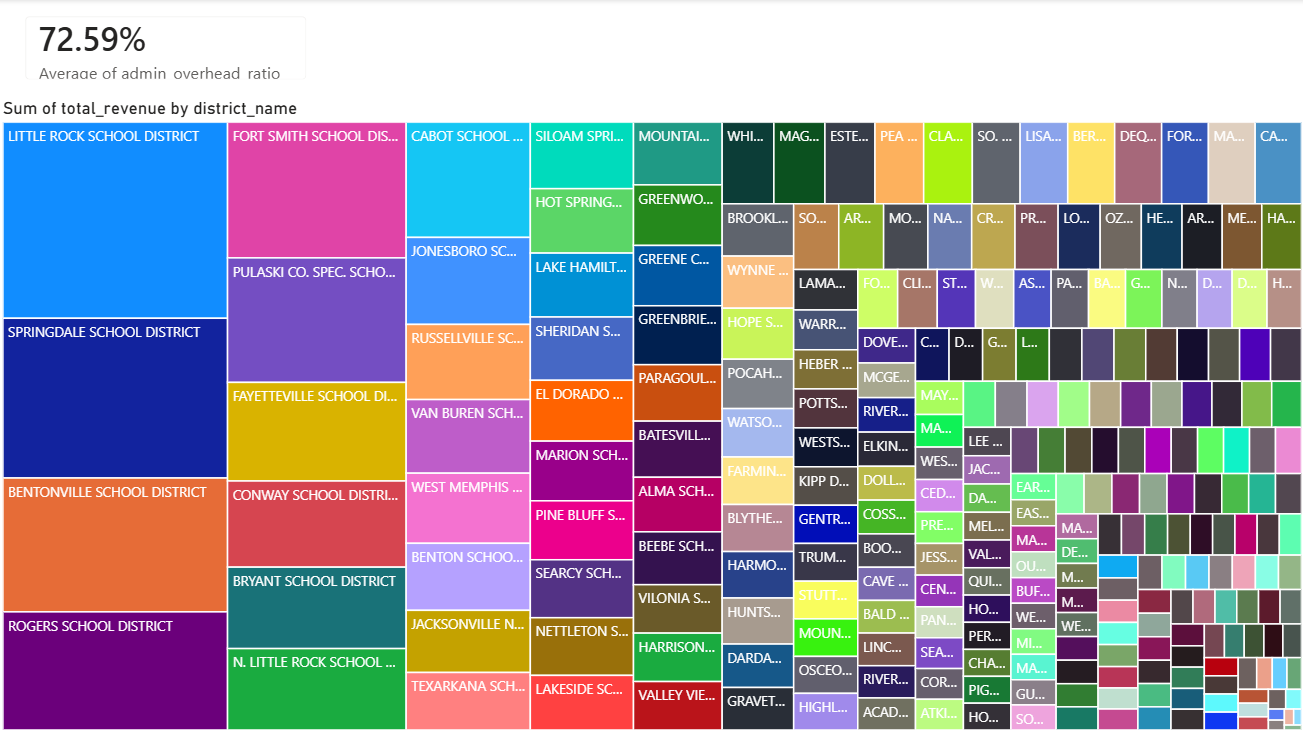

The page's visual inventory and layout, read from the dashboard file:
{"tool":"powerbi","page":{"name":"Page 2","canvas":[1280,720],"ordinal":1},"visuals":[{"type":"cardVisual","fields":{"Data":["Avg(arkansas_school_finance.admin_overhead_ratio)"]},"box":[9.8,0,309.4,96.6],"z":0},{"type":"treemap","fields":{"Group":["arkansas_school_finance.district_name"],"Values":["Sum(arkansas_school_finance.total_revenue)"]},"box":[0,96.6,1280.3,623.6],"z":1000}]}

Visuals, with their boxes in screenshot pixels (x1, y1, x2, y2), scaled from the page's 1280x720 canvas onto the 1303x733 screenshot:
cardVisual - Avg(arkansas_school_finance.admin_overhead_ratio): detection(10, 0, 325, 98)
treemap - arkansas_school_finance.district_name x Sum(arkansas_school_finance.total_revenue): detection(0, 98, 1302, 732)
